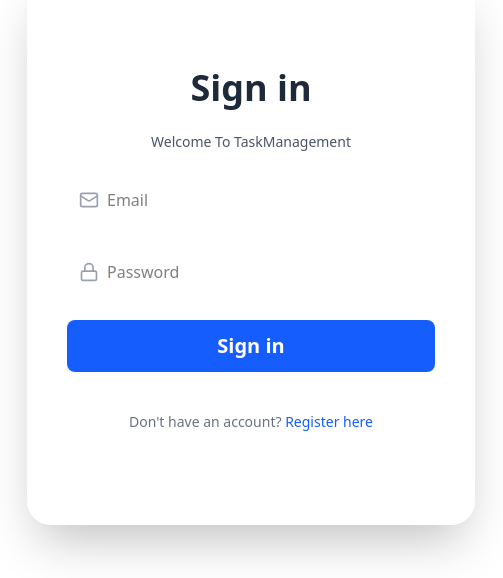
Test: Login Component › shows required field errors when fields are empty
This screenshot has width=503, height=578.
Click the button "Sign in" at (251, 346), box [67, 320, 435, 372]
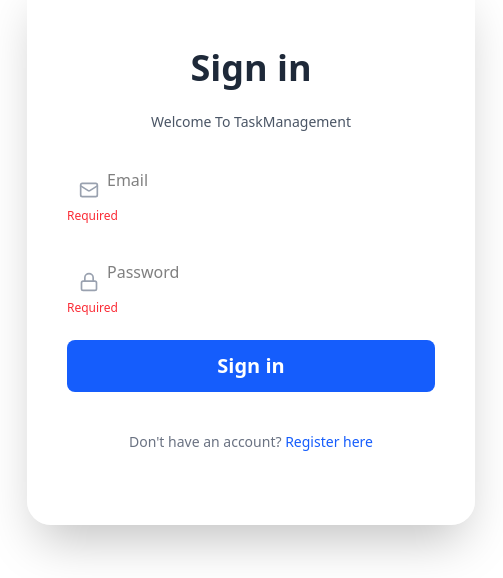
Result: the text "Required" is shown 2 times at [67, 207, 118, 224]; [67, 299, 118, 316]
